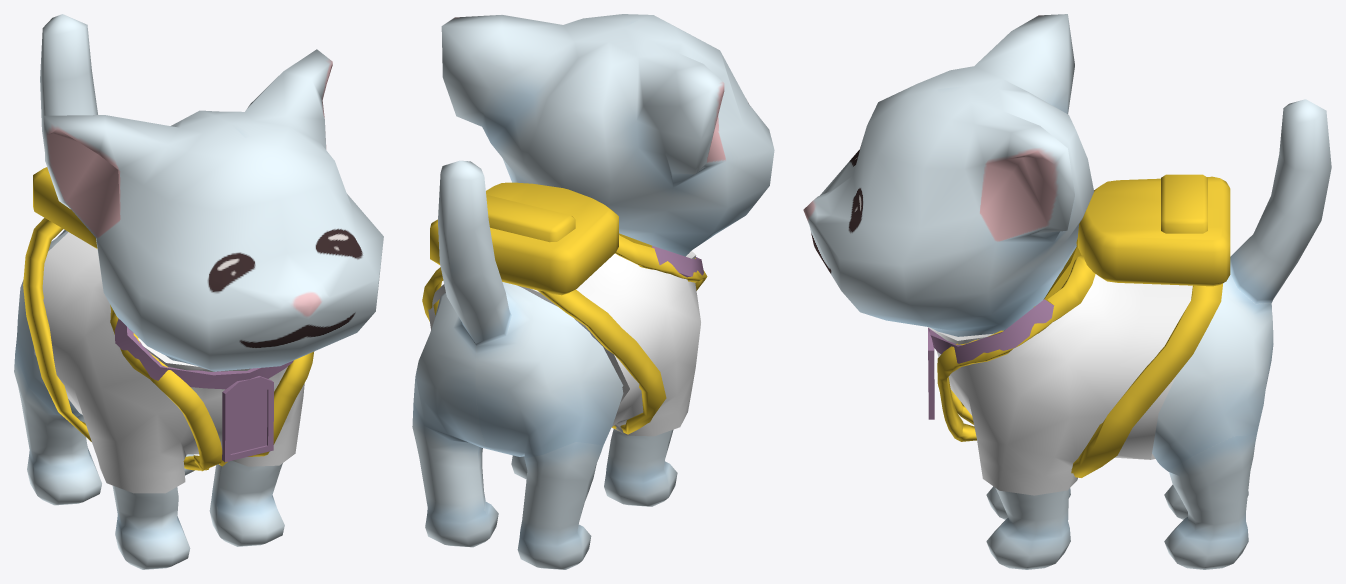
Rendered from Student Cat03_05.fbx.
3 views of the same model, side by side, from view 1: azimuth 30°, elevation 25°; view 2: azimuth 150°, elevation 25°; view 3: azimuth 270°, elevation 25° (orthographic). The views are drawn at different scales.
Visible parts, largest first — view 1: Cat_Base004, tshirt, Backpack, id; view 2: Cat_Base004, Backpack, tshirt, id; view 3: Cat_Base004, tshirt, Backpack, id.
Part boxes in pixels (x1=…): Cat_Base004: x1=14, y1=14, x2=383, y2=569; tshirt: x1=34, y1=232, x2=304, y2=493; Backpack: x1=23, y1=167, x2=313, y2=471; id: x1=114, y1=318, x2=293, y2=462; Cat_Base004: x1=412, y1=14, x2=774, y2=569; Backpack: x1=422, y1=182, x2=707, y2=434; tshirt: x1=428, y1=251, x2=700, y2=436; id: x1=619, y1=233, x2=703, y2=277; Cat_Base004: x1=803, y1=14, x2=1331, y2=569; tshirt: x1=928, y1=274, x2=1192, y2=495; Backpack: x1=937, y1=174, x2=1230, y2=477; id: x1=928, y1=239, x2=1081, y2=419.
Bounding box in the file's own units: 1.75 × 2.83 × 2.68.
Materials: 5 (1 with a texture image).
